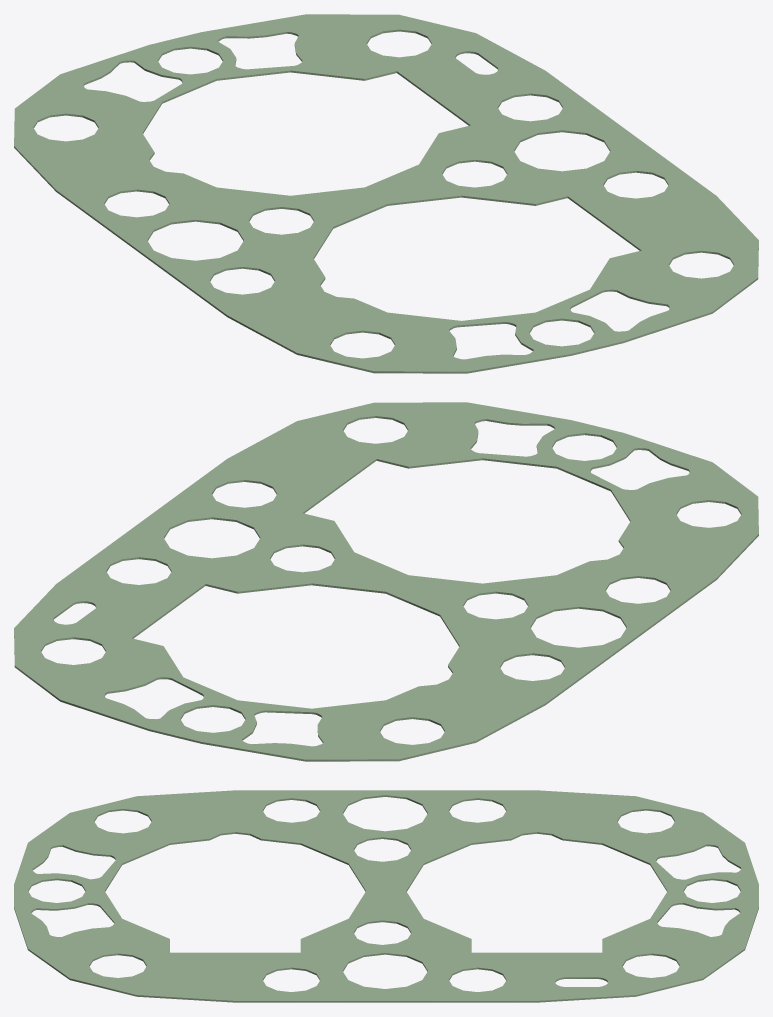
Rendered from mifengpian2.FBX.
The picture shows the model from 3 angles, top to bottom: view 1: azimuth 30°, elevation 25°; view 2: azimuth 150°, elevation 25°; view 3: azimuth 270°, elevation 25°; orthographic projection. The views are drawn at different scales.
Visible parts, largest first — view 1: mifengpian2; view 2: mifengpian2; view 3: mifengpian2.
Part boxes in pixels (left/top/right/bottom): mifengpian2: left=14, top=14, right=758, bottom=373; mifengpian2: left=14, top=402, right=758, bottom=761; mifengpian2: left=14, top=790, right=758, bottom=1002.
Size of the model in its own units: 156 by 0.5808 by 233.
